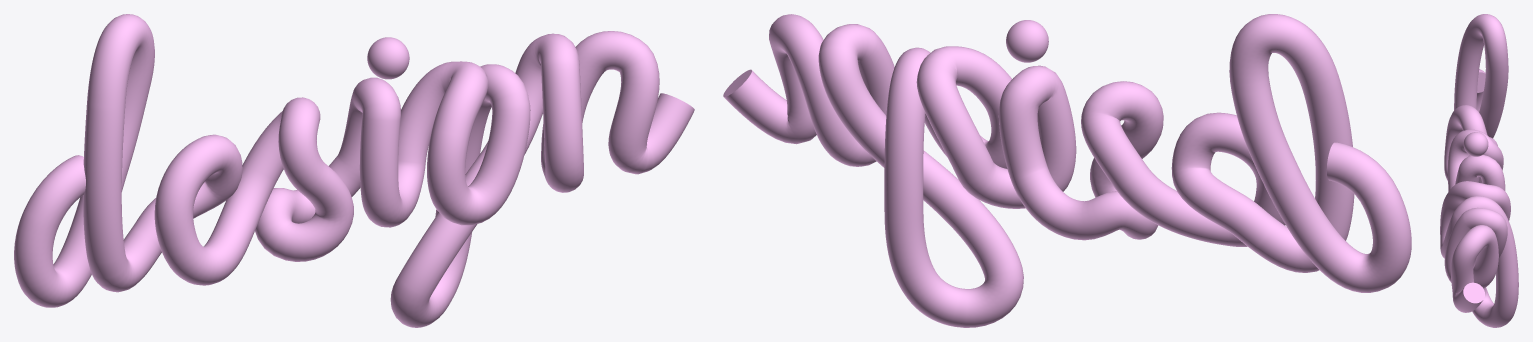
Rendered from design.gltf.
3 renders of one model, left to right at view 1: azimuth 30°, elevation 25°; view 2: azimuth 150°, elevation 25°; view 3: azimuth 270°, elevation 25°, orthographic. The views are drawn at different scales.
Parts seen in each view (by area): view 1: Shape, Sphere; view 2: Shape, Sphere; view 3: Shape, Sphere.
Part boxes in pixels (left/top/right/bottom): Shape: left=14, top=14, right=694, bottom=327; Sphere: left=367, top=37, right=409, bottom=79; Shape: left=723, top=14, right=1411, bottom=327; Sphere: left=1006, top=20, right=1048, bottom=62; Shape: left=1440, top=14, right=1518, bottom=327; Sphere: left=1463, top=132, right=1488, bottom=156.
Size of the model in its own units: 8.06 by 4.33 by 1.39.
